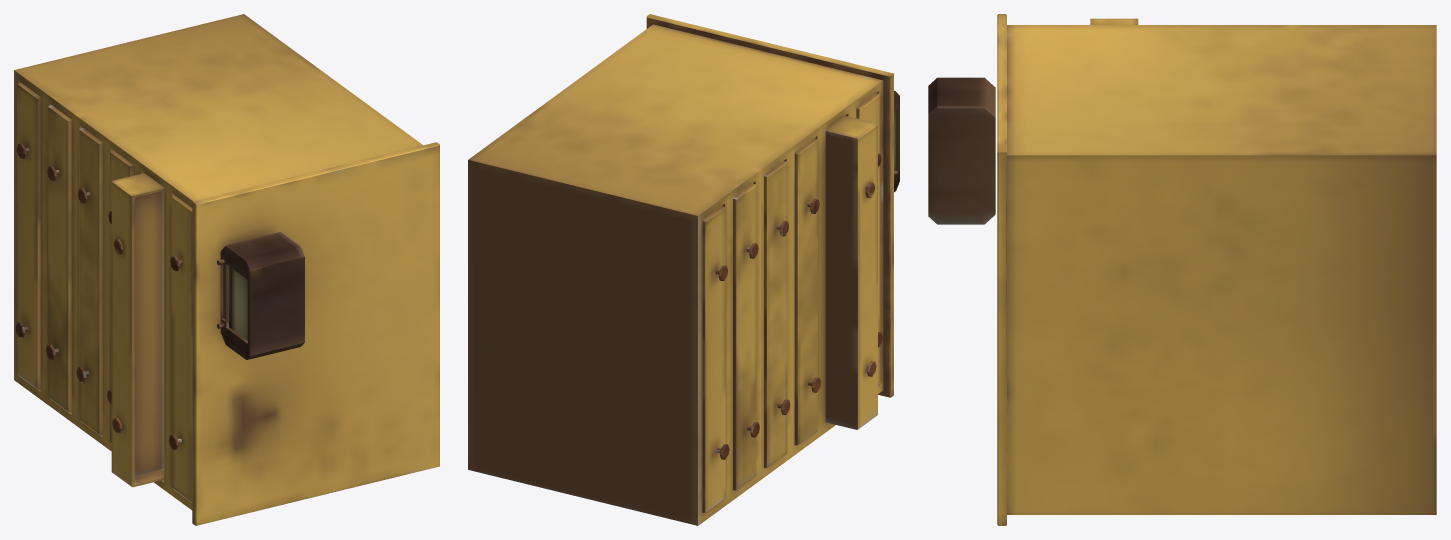
The model's file is Funiture1.obj.
3 renders of one model, left to right at view 1: azimuth 30°, elevation 25°; view 2: azimuth 150°, elevation 25°; view 3: azimuth 270°, elevation 25°, orthographic. The views are drawn at different scales.
Parts seen in each view (by area): view 1: polySurface146.047, polySurface146.075; view 2: polySurface146.047, polySurface146.075; view 3: polySurface146.047, polySurface146.075.
Boxes of the visible parts, <box> form: polySurface146.047: <box>14,14,439,525</box>; polySurface146.075: <box>220,232,304,359</box>; polySurface146.047: <box>468,14,893,525</box>; polySurface146.075: <box>894,90,899,192</box>; polySurface146.047: <box>997,14,1436,525</box>; polySurface146.075: <box>928,77,995,224</box>.
Bounding box in the file's own units: 2.98 × 3.35 × 4.13.
Materials: 1 (1 with a texture image).
